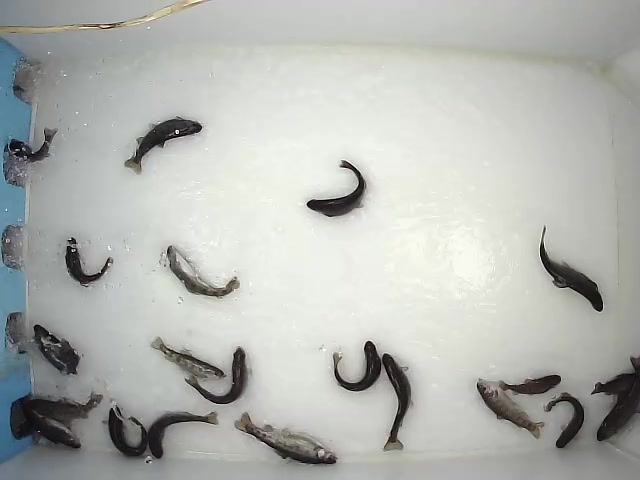fish: (538, 223, 605, 314), (232, 411, 339, 466), (123, 114, 203, 177), (476, 378, 545, 441), (184, 345, 253, 406), (166, 244, 241, 299), (148, 408, 221, 460), (305, 159, 368, 219), (149, 335, 227, 381), (381, 351, 415, 453), (64, 235, 115, 290), (32, 323, 83, 376), (332, 339, 381, 393), (543, 392, 586, 449), (101, 405, 148, 457), (498, 374, 562, 396)
